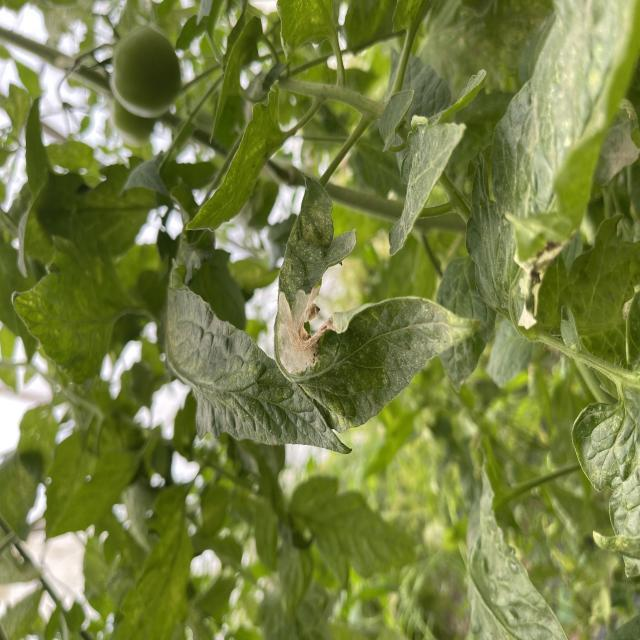Tuta absoluta: (275, 284, 337, 374)
